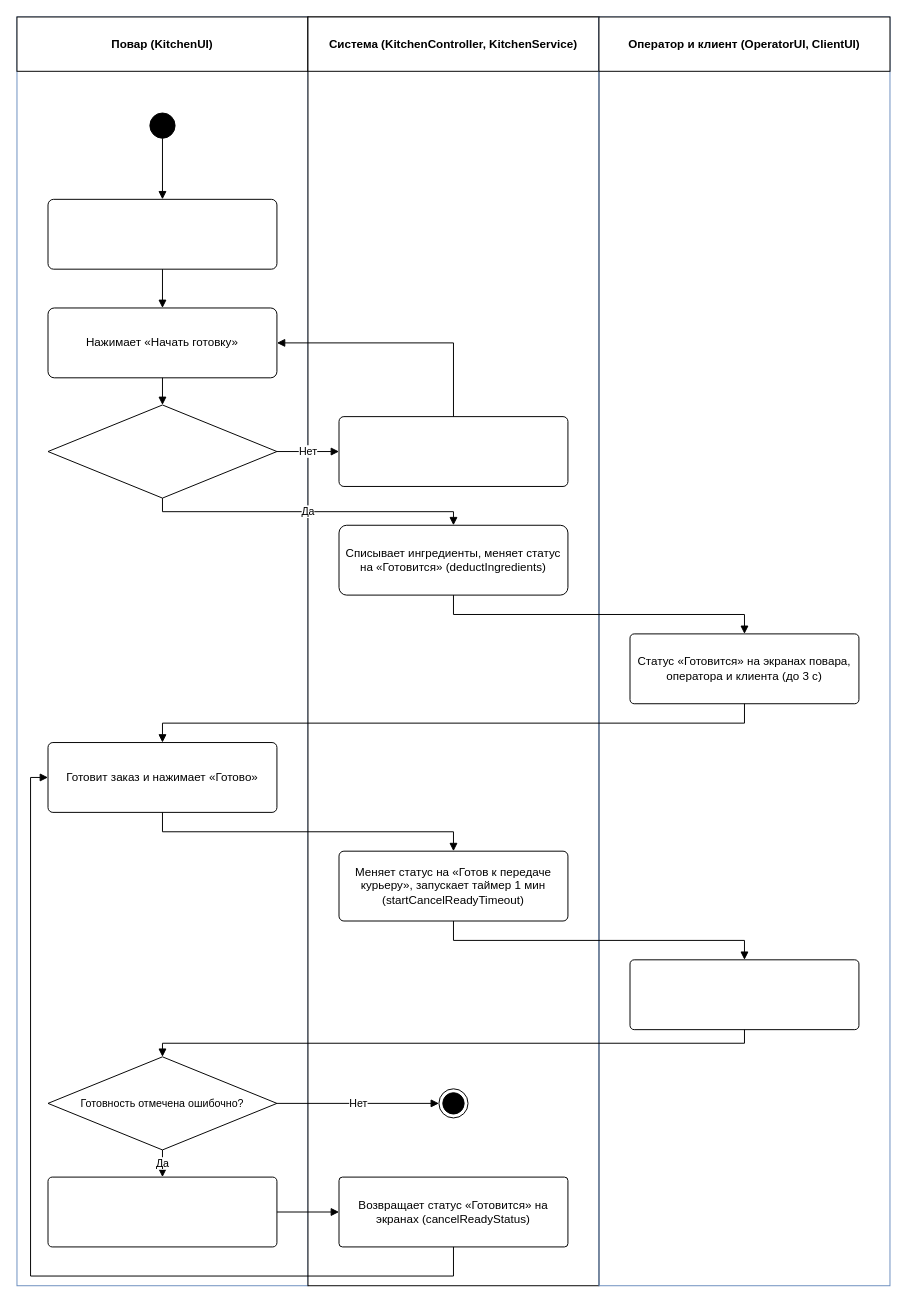
This 907x1303 diagram has some shape labels left out. The centre of each missing label's shape, as x and y in pixels:
Видит заказ в статусе «Ожидает принятия на кухне» (getKitchenQueue): (x=162, y=233)
Есть соединение с сервером?: (x=162, y=451)
Нажимает «Отменить готовность» в течение 1 минуты: (x=162, y=1211)
Оператор получает оповещение о назначении курьера, клиент видит новый статус: (x=744, y=994)
Показывает уведомление о сбое; после восстановления синхронизирует данные: (x=453, y=451)
